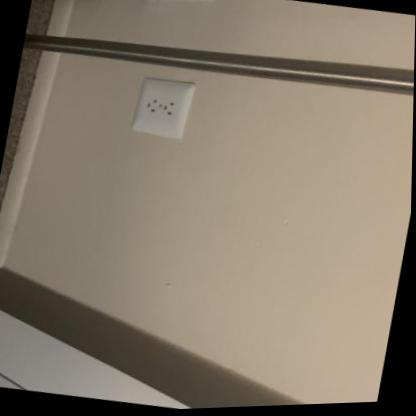OUTLET: (128, 73, 197, 143)
